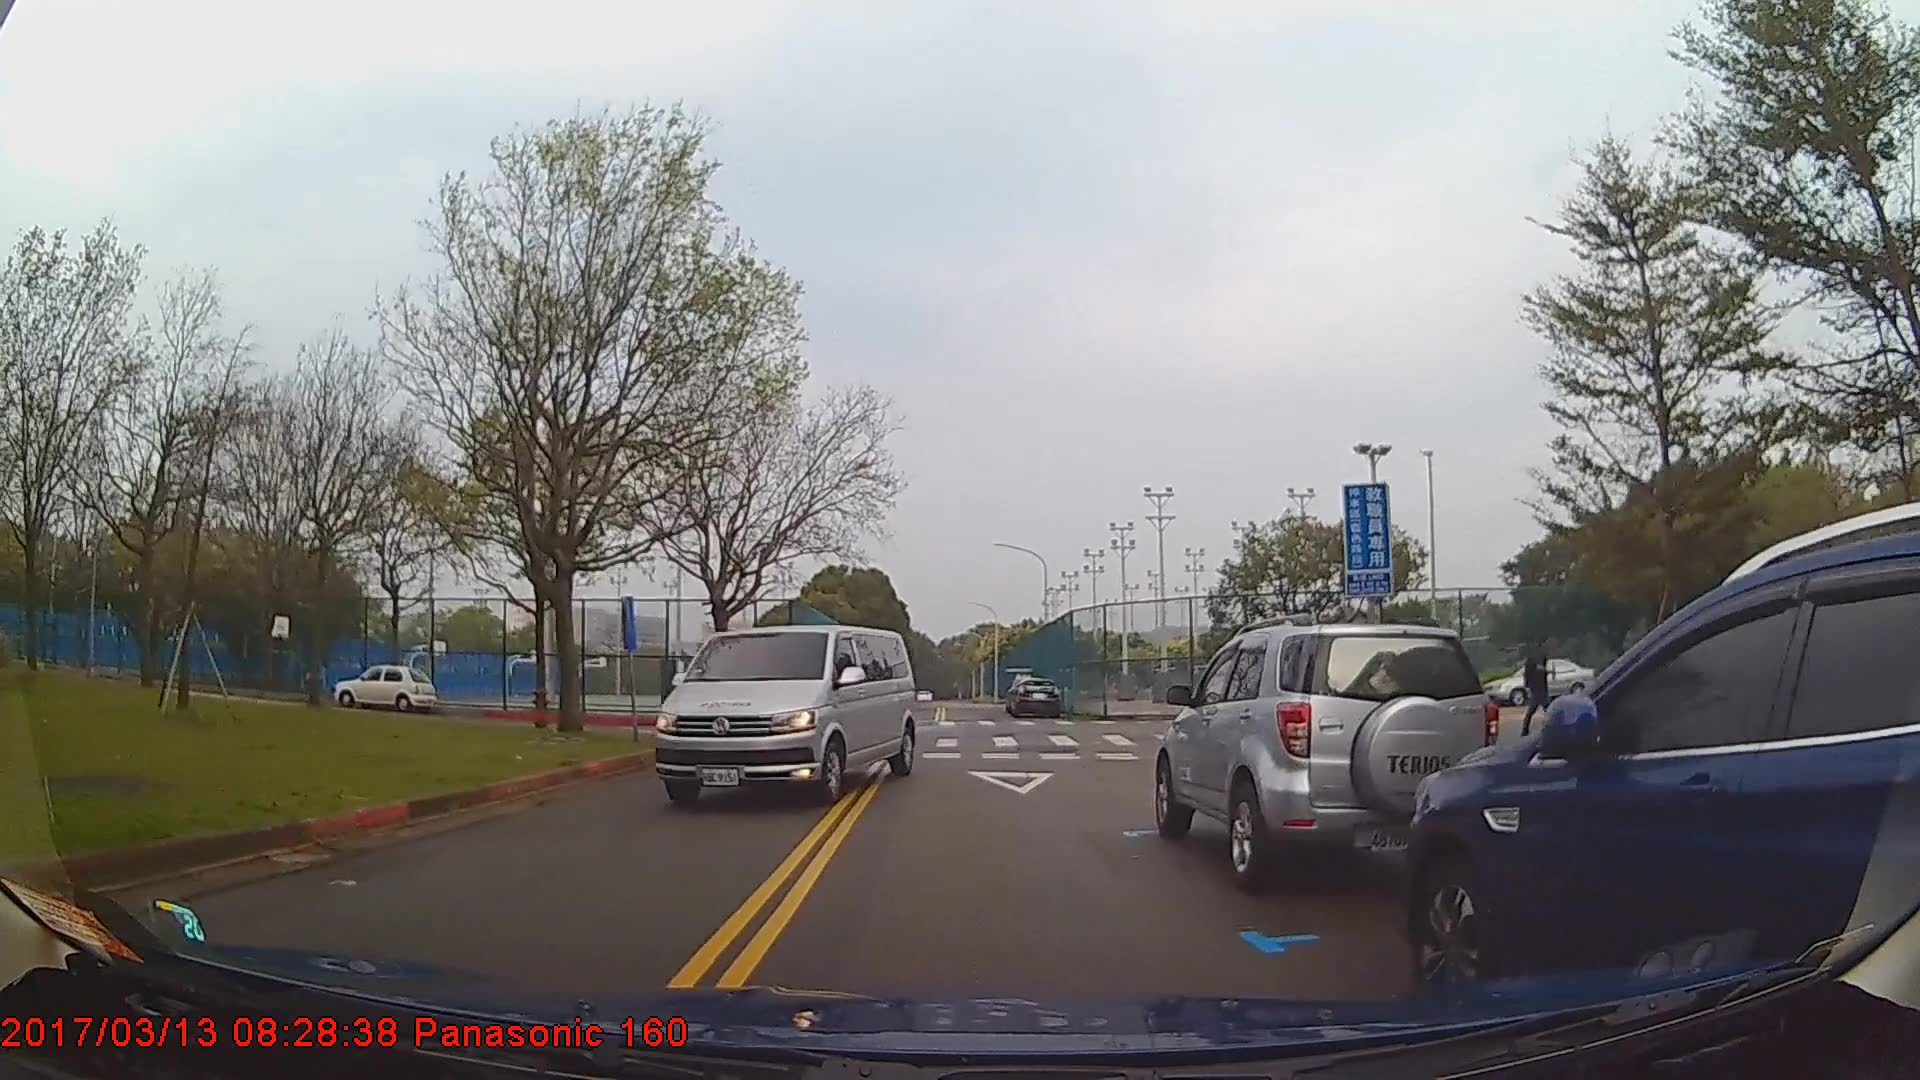pedestrian: (1513, 625, 1568, 744)
vehicle: (1404, 534, 1920, 1012), (1152, 623, 1500, 892), (652, 624, 917, 810), (1484, 657, 1594, 706), (332, 664, 436, 714), (1010, 675, 1062, 718)
